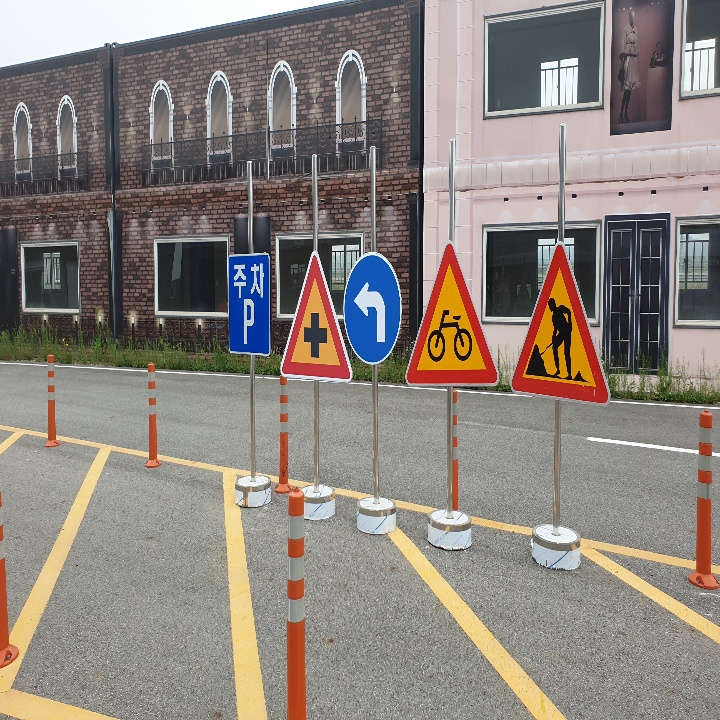bicycle: (406, 244, 501, 387)
const: (524, 296, 591, 383)
inter: (297, 307, 332, 363)
left: (352, 279, 396, 348)
parking: (234, 295, 262, 345)
